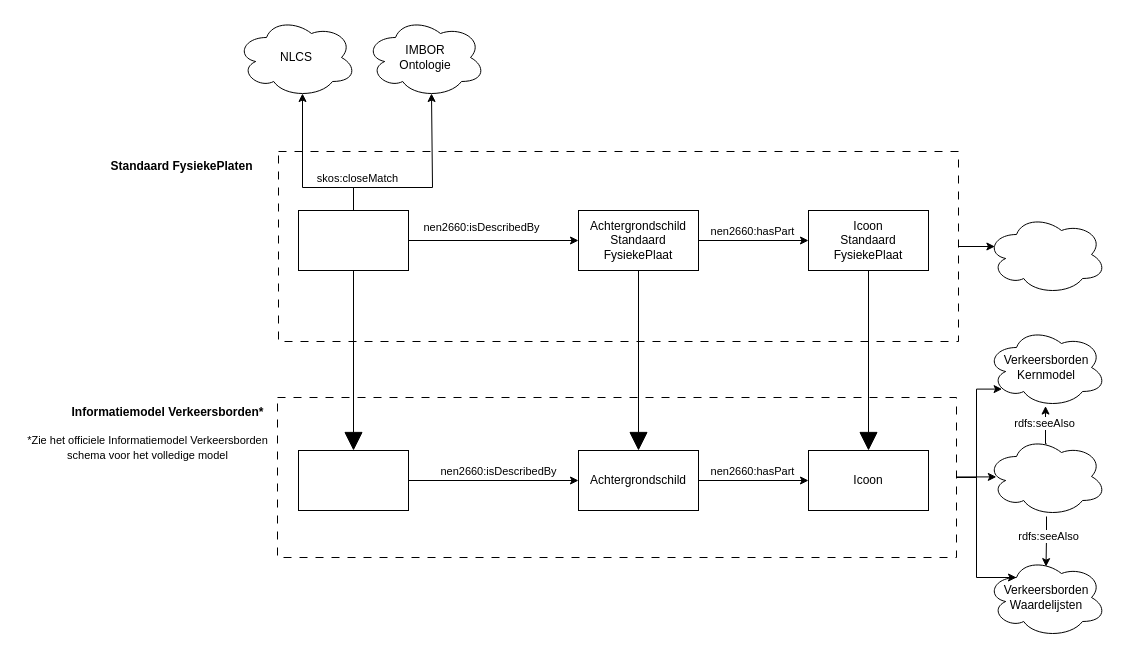
Some shapes in this 1124 by 655 pixel diagram are drawn without their labels. The shapes that lost their labels are listed below. From the top down, each one's centre as x and y in pixels, then its label:
the point at 353,240: Standaard FysiekePlaat
the point at 1046,254: Standaard FysiekePlaten (Ontologie)
the point at 353,480: FysiekePlaat
the point at 1046,476: Verkeersborden Vocabulaire
